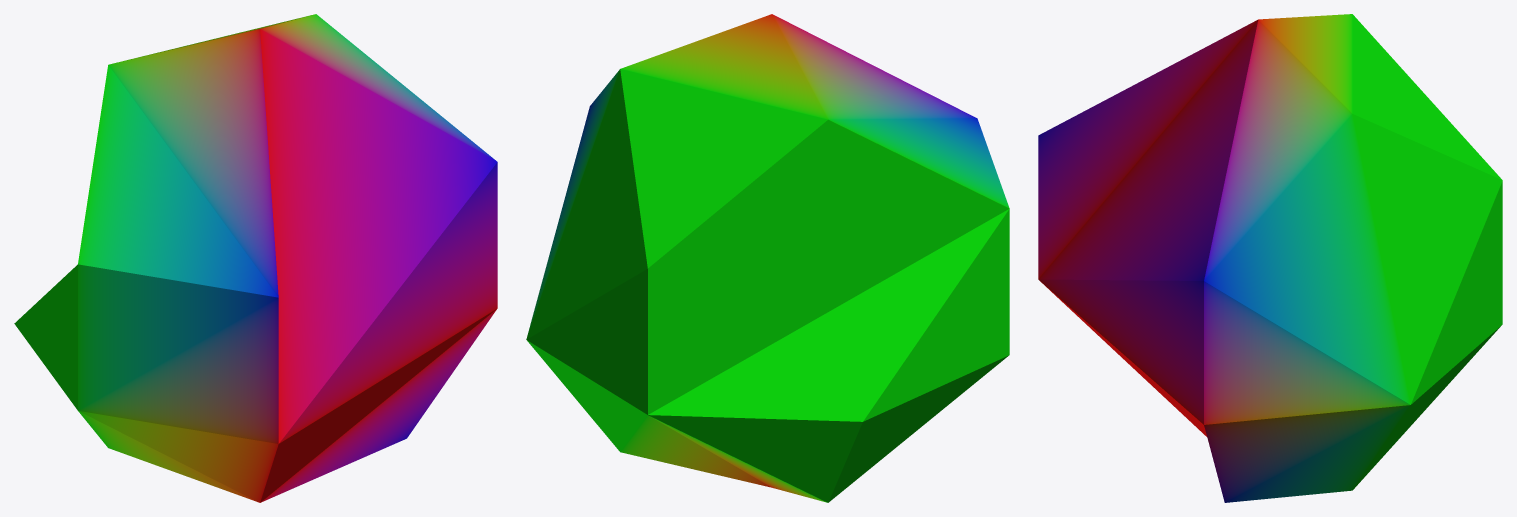
File: after_decimating_conquest_4_2.obj
3 views of the same model, side by side, from view 1: azimuth 30°, elevation 25°; view 2: azimuth 150°, elevation 25°; view 3: azimuth 270°, elevation 25° (orthographic).
Bounding box in the file's own units: 1.85 × 2 × 1.81.
